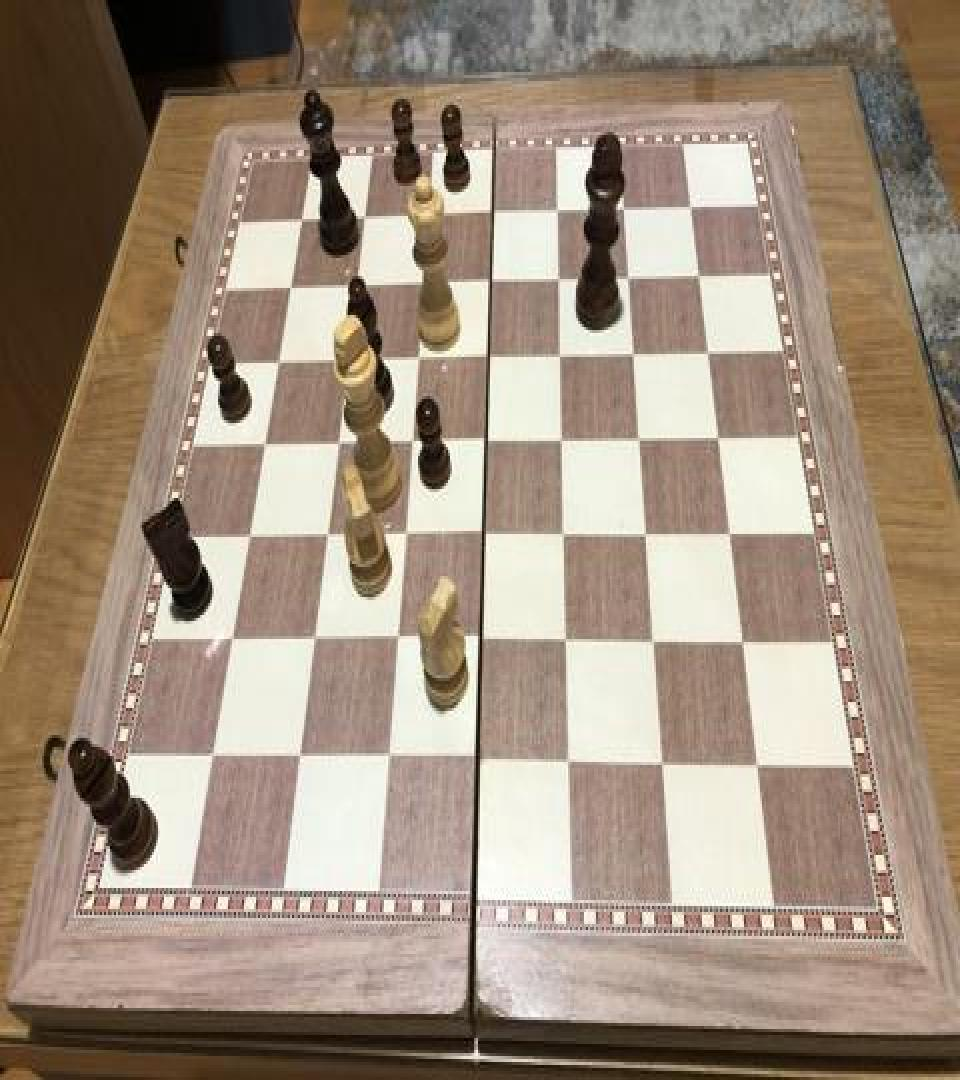xcorner: (553, 520, 577, 557), (472, 520, 496, 557), (392, 520, 416, 557), (314, 520, 338, 557), (384, 625, 408, 662), (301, 625, 325, 662), (219, 625, 243, 662), (557, 748, 581, 785), (200, 742, 224, 779), (680, 189, 704, 225), (613, 190, 637, 226), (547, 194, 571, 230), (481, 196, 505, 232), (416, 198, 440, 234), (352, 201, 376, 237), (289, 202, 313, 238), (689, 258, 713, 294), (618, 261, 642, 297), (548, 262, 572, 298), (479, 266, 503, 302), (411, 267, 435, 303), (344, 268, 368, 304), (278, 272, 302, 308), (698, 336, 722, 372), (623, 338, 647, 374), (549, 339, 573, 375), (477, 342, 501, 378), (335, 345, 359, 381), (265, 346, 289, 382), (708, 423, 732, 459), (629, 423, 653, 459), (551, 424, 575, 460), (475, 426, 499, 462), (399, 428, 423, 464), (325, 428, 349, 464), (252, 429, 276, 465), (719, 519, 743, 555), (635, 519, 659, 555), (236, 522, 260, 558), (731, 628, 755, 664), (642, 627, 666, 663), (555, 627, 579, 663), (469, 627, 493, 663), (746, 752, 770, 788), (651, 750, 675, 786), (466, 747, 490, 783), (376, 746, 400, 782), (287, 744, 311, 780), (405, 344, 429, 379)
